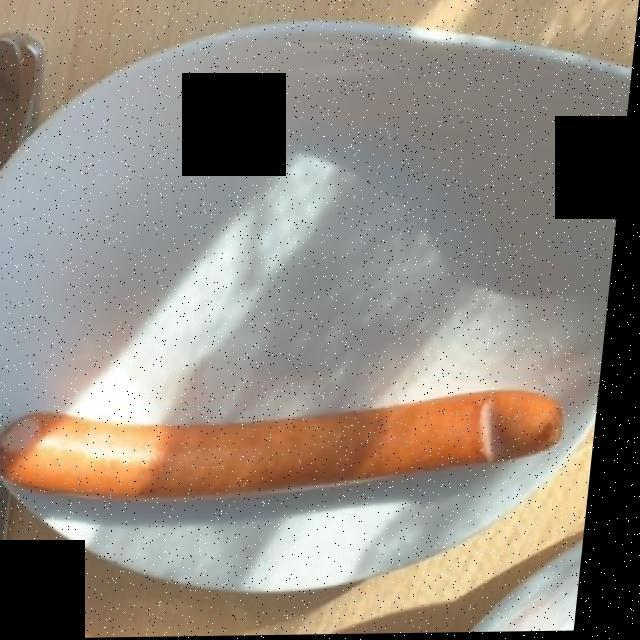sausage: (4, 398, 573, 509), (12, 397, 574, 500)
